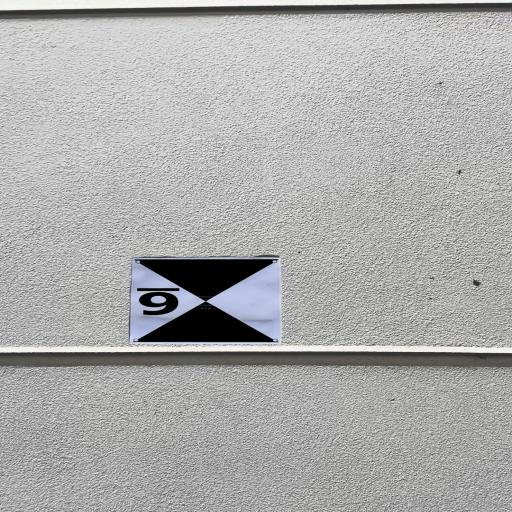target6: (129, 255, 284, 346)
